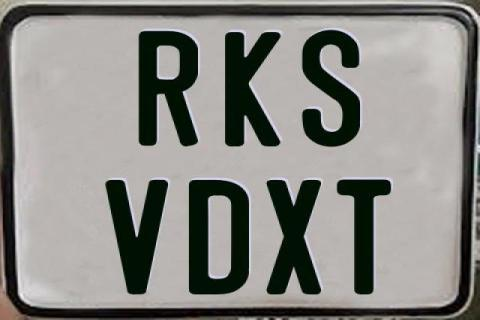D: (187, 180, 252, 295)
K: (223, 31, 284, 149)
R: (139, 31, 204, 148)
S: (299, 29, 357, 149)
T: (334, 179, 390, 295)
V: (102, 179, 170, 295)
X: (263, 178, 322, 296)
